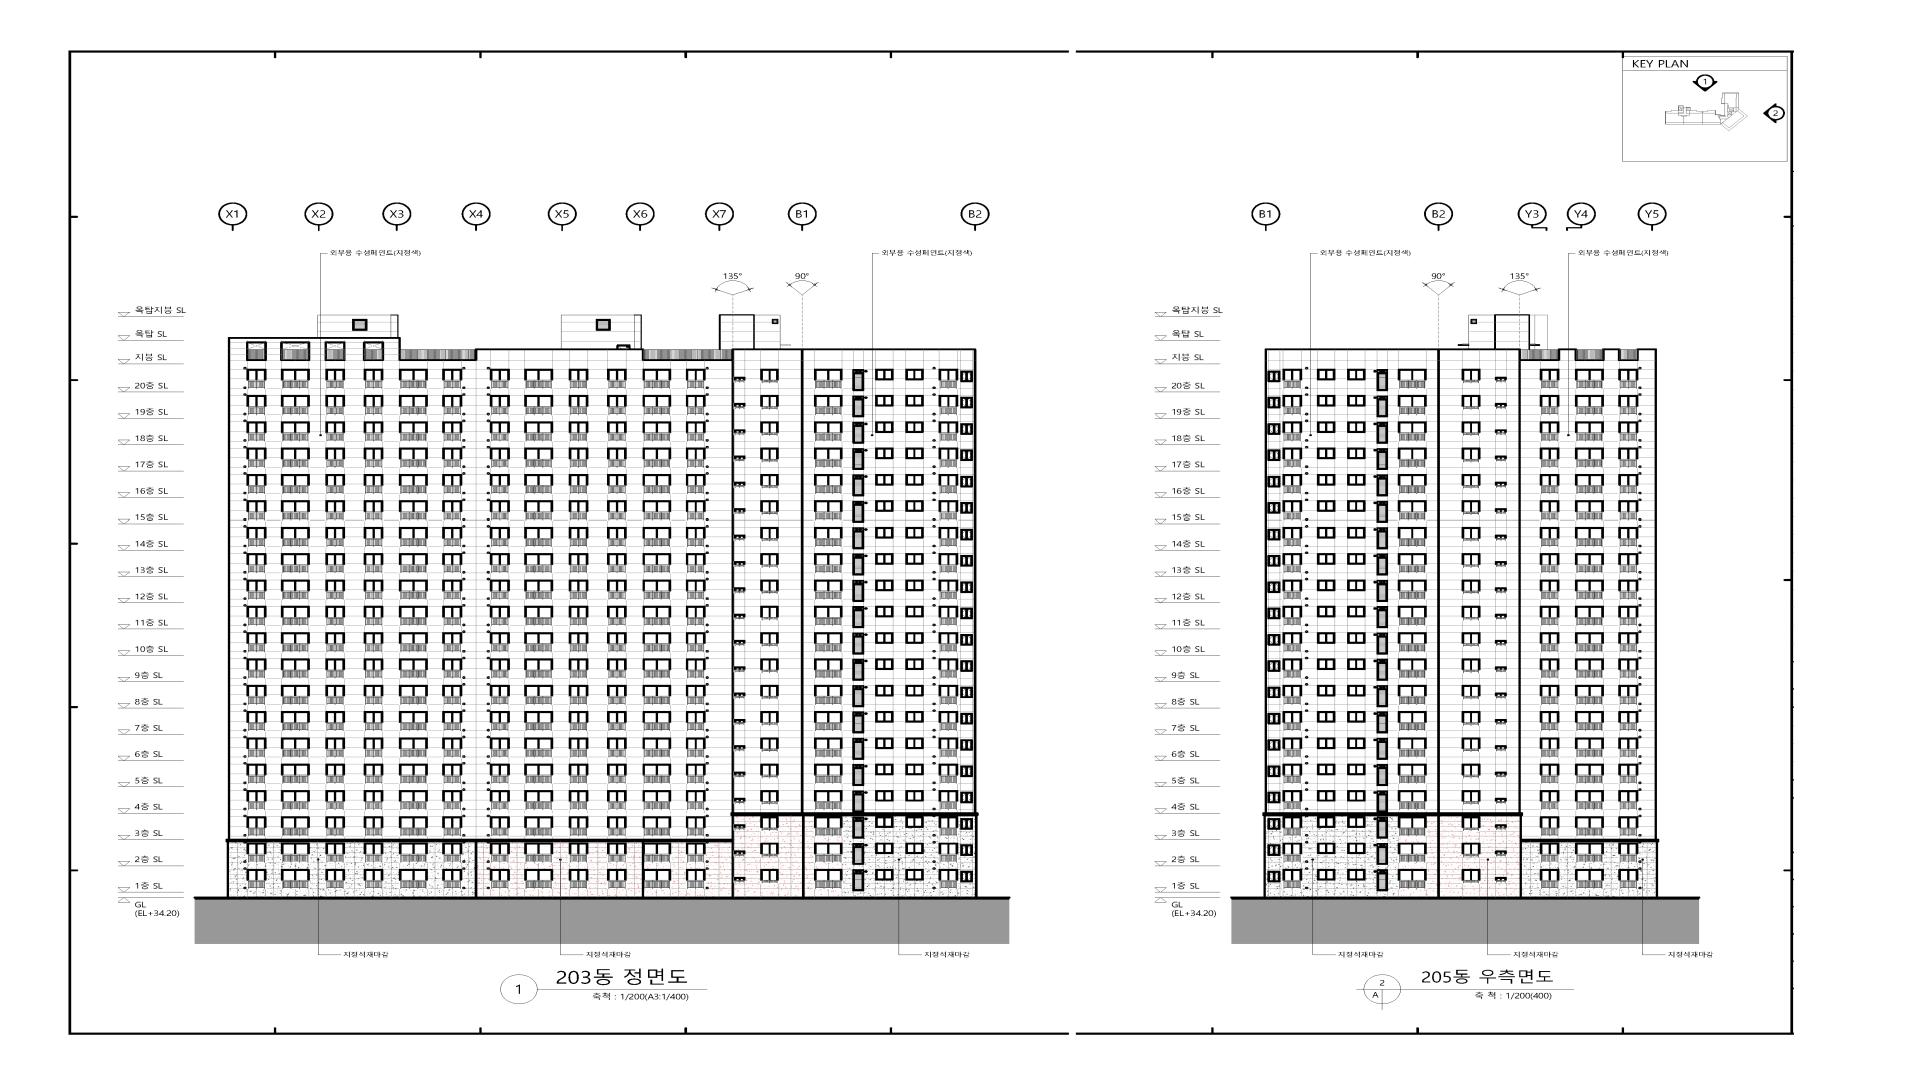wall: (195, 314, 1009, 900), (1231, 314, 1699, 900)
window: (280, 711, 310, 732), (280, 553, 310, 574), (642, 527, 672, 548), (642, 553, 672, 574), (642, 579, 672, 600), (642, 685, 671, 706), (642, 737, 671, 758), (642, 790, 671, 811), (642, 816, 671, 837), (814, 869, 843, 890), (814, 790, 843, 811), (814, 658, 843, 679), (814, 632, 843, 653), (814, 527, 843, 548), (814, 421, 843, 442), (281, 737, 310, 758), (281, 658, 310, 679), (281, 527, 310, 548), (281, 500, 310, 521), (281, 421, 310, 442), (399, 368, 428, 389), (399, 395, 428, 416), (399, 421, 428, 442), (399, 447, 428, 468), (399, 500, 428, 521), (399, 632, 428, 653), (399, 658, 428, 679), (399, 711, 428, 732), (399, 737, 428, 758), (399, 790, 428, 811), (399, 816, 428, 837), (281, 816, 310, 837), (281, 790, 310, 811), (399, 869, 428, 890), (524, 869, 553, 890), (524, 816, 553, 837), (524, 737, 553, 758), (524, 711, 553, 732), (524, 579, 553, 600), (524, 553, 553, 574), (524, 500, 553, 521), (524, 421, 553, 442), (524, 395, 553, 416), (642, 421, 671, 442), (642, 632, 671, 653), (642, 658, 671, 679), (1398, 527, 1427, 548), (1398, 737, 1427, 758), (1398, 763, 1427, 784), (1575, 421, 1604, 442), (1575, 447, 1604, 468), (1575, 658, 1604, 679), (1398, 579, 1427, 600), (1398, 632, 1427, 653), (1398, 658, 1427, 679), (1575, 553, 1604, 574), (813, 738, 843, 758), (398, 606, 428, 626), (642, 448, 672, 468), (642, 474, 672, 494), (642, 606, 672, 626), (1397, 422, 1427, 442), (1574, 395, 1604, 415), (1574, 474, 1604, 494), (643, 711, 672, 731), (642, 764, 671, 784), (642, 843, 671, 863), (642, 869, 671, 889), (814, 843, 843, 863), (814, 816, 843, 836), (814, 764, 843, 784), (814, 711, 843, 731), (814, 685, 843, 705), (814, 606, 843, 626), (814, 580, 843, 600), (814, 554, 843, 574), (814, 500, 843, 520), (814, 474, 843, 494), (814, 448, 843, 468), (814, 395, 843, 415), (814, 369, 843, 389), (281, 764, 310, 784), (281, 685, 310, 705), (281, 632, 310, 652), (281, 606, 310, 626), (281, 580, 310, 600), (281, 474, 310, 494), (281, 448, 310, 468), (281, 395, 310, 415), (281, 369, 310, 389), (399, 474, 428, 494), (399, 527, 428, 547), (399, 553, 428, 573), (399, 580, 428, 600), (399, 685, 428, 705), (399, 764, 428, 784), (281, 869, 310, 889), (281, 843, 310, 863), (399, 843, 428, 863), (524, 843, 553, 863), (524, 790, 553, 810), (524, 764, 553, 784), (524, 685, 553, 705), (524, 659, 553, 679), (524, 632, 553, 652), (524, 606, 553, 626), (524, 527, 553, 547), (524, 474, 553, 494), (524, 448, 553, 468), (524, 369, 553, 389), (642, 369, 671, 389), (642, 395, 671, 415), (642, 501, 671, 521), (1398, 395, 1427, 415), (1398, 474, 1427, 494), (1398, 500, 1427, 520), (1398, 553, 1427, 573), (1398, 711, 1427, 731), (1398, 790, 1427, 810), (1398, 816, 1427, 836), (1397, 843, 1426, 863), (1398, 869, 1427, 889), (1575, 500, 1604, 520), (1575, 606, 1604, 626), (1575, 632, 1604, 652), (1575, 685, 1604, 705), (1575, 711, 1604, 731), (1575, 738, 1604, 758), (1575, 764, 1604, 784), (1575, 790, 1604, 810), (1575, 816, 1604, 836), (1575, 843, 1604, 863), (1575, 869, 1604, 889), (1398, 369, 1427, 389), (1575, 369, 1604, 389), (1398, 448, 1427, 468), (1398, 606, 1427, 626), (1398, 685, 1427, 705), (1575, 527, 1604, 547), (1575, 580, 1604, 600), (280, 342, 310, 361), (607, 421, 627, 442), (607, 447, 627, 468), (607, 632, 627, 653), (607, 658, 627, 679), (325, 816, 345, 837), (364, 658, 384, 679), (246, 341, 267, 361), (363, 341, 384, 361), (246, 369, 267, 389), (490, 421, 510, 442), (938, 579, 958, 600), (938, 737, 958, 758), (686, 658, 706, 679), (686, 553, 706, 574), (325, 421, 345, 442), (246, 421, 266, 442), (246, 816, 267, 836), (246, 869, 267, 889), (1282, 421, 1302, 442), (1282, 447, 1302, 468), (1282, 632, 1302, 653), (1618, 737, 1638, 758), (1618, 764, 1639, 784), (1618, 869, 1639, 889), (1618, 790, 1639, 810), (1618, 816, 1639, 836), (1539, 816, 1560, 836), (686, 395, 706, 415), (607, 395, 627, 415), (607, 474, 627, 494), (607, 500, 627, 520), (607, 527, 627, 547), (607, 553, 627, 573), (607, 580, 627, 600), (607, 606, 627, 626), (607, 685, 627, 705), (607, 711, 627, 731), (607, 738, 627, 758), (607, 764, 627, 784), (607, 790, 627, 810), (607, 816, 627, 836), (569, 869, 589, 889), (569, 816, 589, 836), (569, 790, 589, 810), (568, 764, 588, 784), (569, 711, 589, 731), (569, 685, 589, 705), (569, 632, 589, 652), (569, 606, 589, 626), (569, 527, 589, 547), (569, 474, 589, 494), (490, 843, 510, 863), (490, 869, 510, 889), (442, 869, 462, 889), (442, 843, 462, 863), (442, 816, 462, 836), (325, 869, 345, 889), (325, 843, 345, 863), (442, 790, 462, 810), (325, 790, 345, 810), (364, 790, 384, 810), (363, 764, 383, 784), (325, 764, 345, 784), (325, 738, 345, 758), (325, 711, 345, 731), (325, 685, 345, 705), (325, 658, 345, 678), (325, 632, 345, 652), (325, 606, 345, 626), (364, 606, 384, 626), (364, 580, 384, 600), (325, 580, 345, 600), (325, 553, 345, 573), (325, 527, 345, 547), (325, 341, 345, 361), (325, 369, 345, 389), (364, 369, 384, 389), (442, 369, 462, 389), (490, 369, 510, 389), (569, 369, 589, 389), (607, 369, 627, 389), (686, 369, 706, 389), (938, 369, 958, 389), (938, 395, 958, 415), (938, 421, 958, 441), (938, 474, 958, 494), (938, 500, 958, 520), (569, 448, 589, 468), (569, 421, 589, 441), (569, 395, 589, 415), (490, 395, 510, 415), (442, 395, 462, 415), (442, 421, 462, 441), (490, 448, 510, 468), (490, 474, 510, 494), (490, 500, 510, 520), (442, 474, 462, 494), (442, 447, 462, 467), (442, 500, 462, 520), (442, 527, 462, 547), (490, 527, 510, 547), (442, 553, 462, 573), (490, 553, 510, 573), (442, 580, 462, 600), (490, 580, 510, 600), (442, 606, 462, 626), (490, 606, 510, 626), (490, 632, 510, 652), (490, 659, 510, 679), (442, 685, 462, 705), (490, 685, 510, 705), (490, 711, 510, 731), (490, 763, 510, 783), (490, 790, 510, 810), (490, 816, 510, 836), (938, 527, 958, 547), (938, 606, 958, 626), (938, 632, 958, 652), (938, 658, 958, 678), (938, 685, 958, 705), (938, 711, 958, 731), (938, 764, 958, 784), (938, 790, 958, 810), (938, 816, 958, 836), (938, 843, 958, 863), (938, 869, 958, 889), (686, 816, 706, 836), (607, 869, 627, 889), (607, 843, 627, 863), (686, 790, 706, 810), (686, 764, 706, 784), (686, 737, 706, 757), (686, 711, 706, 731), (686, 685, 706, 705), (686, 632, 706, 652), (686, 606, 706, 626), (686, 580, 706, 600), (686, 500, 706, 520), (686, 474, 706, 494), (686, 422, 706, 442), (325, 500, 345, 520), (364, 500, 384, 520), (363, 474, 383, 494), (325, 474, 345, 494), (325, 448, 345, 468), (363, 448, 383, 468), (364, 422, 384, 442), (325, 395, 345, 415), (364, 395, 384, 415), (247, 448, 267, 468), (246, 474, 266, 494), (247, 500, 267, 520), (246, 606, 266, 626), (247, 658, 267, 678), (246, 685, 266, 705), (247, 764, 267, 784), (246, 790, 266, 810), (246, 843, 266, 863), (1282, 527, 1302, 547), (1282, 580, 1302, 600), (1282, 606, 1302, 626), (1282, 685, 1302, 705), (1282, 711, 1302, 731), (1282, 816, 1302, 836), (1282, 843, 1302, 863), (1618, 395, 1638, 415), (1539, 448, 1559, 468), (1540, 474, 1560, 494), (1618, 474, 1638, 494), (1540, 659, 1560, 679), (1618, 685, 1638, 705), (1540, 737, 1560, 757), (1618, 711, 1638, 731), (1282, 369, 1302, 389), (1618, 369, 1638, 389), (1282, 474, 1302, 494), (1282, 553, 1302, 573), (1282, 790, 1302, 810), (1618, 448, 1638, 468), (1618, 501, 1638, 521), (1618, 527, 1638, 547), (1618, 553, 1638, 573), (1618, 580, 1638, 600), (1618, 632, 1638, 652), (1618, 658, 1638, 678), (1540, 843, 1560, 863), (1540, 869, 1560, 889), (1618, 843, 1638, 863), (569, 579, 588, 600), (569, 553, 588, 574), (443, 737, 462, 758), (490, 737, 509, 758), (247, 737, 266, 758), (1283, 500, 1302, 521), (1283, 658, 1302, 679), (1540, 421, 1559, 442), (1540, 579, 1559, 600), (1540, 605, 1559, 626), (1619, 421, 1638, 442), (569, 843, 588, 863), (569, 737, 588, 757), (569, 659, 588, 679), (569, 500, 588, 520), (364, 869, 383, 889), (364, 843, 383, 863), (364, 816, 383, 836), (443, 764, 462, 784), (364, 737, 383, 757), (364, 711, 383, 731), (364, 685, 383, 705), (364, 632, 383, 652), (364, 553, 383, 573), (939, 448, 958, 468), (443, 632, 462, 652), (443, 658, 462, 678), (443, 711, 462, 731), (939, 553, 958, 573), (686, 869, 705, 889), (686, 843, 705, 863), (686, 527, 705, 547), (686, 447, 705, 467), (364, 527, 383, 547), (247, 395, 266, 415), (247, 527, 266, 547), (247, 553, 266, 573), (247, 580, 266, 600), (247, 632, 266, 652), (247, 711, 266, 731), (1283, 395, 1302, 415), (1283, 738, 1302, 758), (1283, 764, 1302, 784), (1283, 869, 1302, 889), (1540, 395, 1559, 415), (1540, 500, 1559, 520), (1540, 553, 1559, 573), (1619, 606, 1638, 626), (1540, 632, 1559, 652), (1540, 711, 1559, 731), (1540, 764, 1559, 784), (1540, 369, 1559, 389), (1540, 527, 1559, 547), (1540, 685, 1559, 705), (1540, 790, 1559, 810), (1461, 500, 1481, 515), (1461, 553, 1481, 568), (760, 395, 779, 410), (760, 421, 779, 436), (760, 474, 779, 489), (760, 500, 779, 515), (760, 527, 779, 542), (760, 553, 779, 568), (760, 632, 779, 647), (760, 658, 779, 673), (760, 685, 779, 700), (760, 711, 779, 726), (760, 737, 779, 752), (760, 790, 779, 805), (760, 869, 779, 884), (1462, 421, 1481, 436), (1461, 447, 1480, 462), (1462, 474, 1481, 489), (1462, 632, 1481, 647), (1462, 658, 1481, 673), (1462, 395, 1481, 410), (1462, 605, 1481, 620), (1462, 685, 1481, 700), (1461, 815, 1480, 830), (1462, 869, 1481, 884), (1461, 711, 1481, 725), (1461, 369, 1481, 383), (760, 369, 779, 383), (760, 448, 779, 462), (760, 580, 779, 594), (760, 606, 779, 620), (760, 817, 779, 831), (760, 843, 779, 857), (1461, 527, 1480, 541), (1462, 580, 1481, 594), (1461, 738, 1480, 752), (1461, 764, 1480, 778), (1461, 790, 1480, 804), (1461, 843, 1480, 857), (852, 369, 864, 391), (852, 422, 864, 444), (852, 448, 864, 470), (852, 475, 864, 497), (852, 501, 864, 523), (852, 554, 864, 576), (852, 580, 864, 602), (852, 606, 864, 628), (852, 633, 864, 655), (852, 659, 864, 681), (852, 685, 864, 707), (852, 711, 864, 733), (852, 738, 864, 760), (852, 764, 864, 786), (852, 791, 864, 813), (852, 817, 864, 839), (852, 843, 864, 865), (852, 869, 864, 891), (1376, 843, 1388, 865), (1376, 369, 1388, 391), (1377, 396, 1389, 418), (1376, 422, 1388, 444), (1376, 448, 1388, 470), (1376, 475, 1388, 497), (1376, 501, 1388, 523), (1376, 554, 1388, 576), (1376, 580, 1388, 602), (1376, 606, 1388, 628), (1376, 633, 1388, 655), (1376, 659, 1388, 681), (1376, 711, 1388, 733), (760, 764, 778, 778), (853, 396, 864, 418), (853, 528, 864, 550), (1377, 764, 1388, 786), (1377, 791, 1388, 813), (1377, 817, 1388, 839), (1377, 869, 1388, 891), (1377, 527, 1388, 549), (1377, 685, 1388, 707), (1377, 738, 1388, 760), (905, 369, 924, 381), (905, 395, 924, 407), (875, 421, 894, 433), (875, 474, 894, 486), (905, 474, 924, 486), (875, 500, 894, 512), (905, 500, 924, 512), (875, 527, 894, 539), (905, 527, 924, 539), (905, 632, 924, 644), (875, 658, 894, 670), (905, 658, 924, 670), (875, 711, 894, 723), (905, 711, 924, 723), (905, 737, 924, 749), (905, 790, 924, 802), (875, 816, 894, 828), (905, 816, 924, 828), (875, 869, 894, 881), (1317, 395, 1336, 407), (1347, 421, 1366, 433), (1317, 474, 1336, 486), (1317, 500, 1336, 512), (1317, 527, 1336, 539), (1347, 527, 1366, 539), (1317, 553, 1336, 565), (1317, 580, 1336, 592), (1317, 606, 1336, 618), (1347, 737, 1366, 749), (1317, 737, 1336, 749), (1317, 816, 1336, 828), (1347, 816, 1366, 828), (1347, 395, 1366, 407), (1347, 474, 1366, 486), (1347, 500, 1366, 512), (1317, 632, 1336, 644), (1347, 632, 1366, 644), (1347, 658, 1366, 670), (1347, 685, 1366, 697), (1347, 711, 1366, 723), (1347, 764, 1366, 776), (1347, 790, 1366, 802), (875, 395, 893, 407), (906, 421, 924, 433), (875, 553, 893, 565), (906, 553, 924, 565), (875, 632, 893, 644), (875, 737, 893, 749), (875, 790, 893, 802), (1347, 553, 1365, 565), (1317, 369, 1335, 381), (1317, 658, 1335, 670), (1317, 711, 1335, 723), (1317, 764, 1335, 776), (1317, 790, 1335, 802), (875, 369, 894, 380), (905, 448, 924, 459), (875, 580, 894, 591), (905, 580, 924, 591), (875, 606, 894, 617), (905, 606, 924, 617), (905, 685, 924, 696), (875, 764, 894, 775), (905, 843, 924, 854), (905, 869, 924, 880), (1317, 422, 1336, 433), (1347, 448, 1366, 459), (1347, 580, 1366, 591), (1347, 606, 1366, 617), (1347, 369, 1366, 380), (1317, 448, 1336, 459), (1317, 843, 1336, 854), (1347, 843, 1366, 854), (1347, 869, 1366, 880), (875, 448, 893, 459), (875, 685, 893, 696), (905, 764, 923, 775), (875, 843, 893, 854), (1317, 685, 1335, 696), (1317, 869, 1335, 880), (352, 319, 368, 331), (596, 319, 611, 331), (960, 423, 973, 435), (960, 449, 973, 461), (960, 476, 973, 488), (960, 502, 973, 514), (960, 555, 973, 567), (960, 581, 973, 593), (960, 634, 973, 646), (960, 660, 973, 672), (960, 713, 973, 725), (960, 739, 973, 751), (960, 765, 973, 777), (960, 792, 973, 804), (960, 818, 973, 830), (960, 844, 973, 856), (960, 871, 973, 883), (1267, 765, 1280, 777), (1267, 791, 1280, 803), (1267, 818, 1280, 830), (1267, 844, 1280, 856), (1267, 871, 1280, 883), (1267, 397, 1280, 409), (1267, 423, 1280, 435), (1267, 449, 1280, 461), (1267, 502, 1280, 514), (1268, 581, 1281, 593), (1268, 607, 1281, 619), (1267, 634, 1280, 646), (1267, 660, 1280, 672), (1267, 713, 1280, 725), (1267, 739, 1280, 751), (960, 397, 973, 408), (960, 529, 973, 540), (960, 608, 973, 619), (960, 687, 973, 698), (960, 371, 973, 382), (1267, 371, 1280, 382), (1268, 476, 1281, 487), (1267, 529, 1280, 540), (1267, 555, 1280, 566), (1267, 687, 1280, 698), (1494, 403, 1507, 409), (734, 429, 745, 436), (734, 666, 745, 673), (734, 824, 745, 831), (734, 850, 745, 857), (734, 377, 746, 383), (734, 403, 746, 409), (734, 482, 746, 488), (734, 508, 746, 514), (734, 561, 746, 567), (734, 772, 746, 778), (734, 798, 746, 804), (1495, 429, 1507, 435), (1495, 456, 1507, 462), (1495, 482, 1507, 488), (1495, 508, 1507, 514), (1495, 534, 1507, 540), (1495, 561, 1507, 567), (1495, 587, 1507, 593), (1495, 640, 1507, 646), (1495, 666, 1507, 672), (1495, 377, 1507, 383), (1495, 614, 1507, 620), (1495, 692, 1507, 698), (1495, 719, 1507, 725), (1495, 745, 1507, 751), (1495, 798, 1507, 804), (1495, 824, 1507, 830), (1495, 850, 1507, 856), (1495, 877, 1507, 883), (734, 456, 745, 462), (734, 535, 745, 541), (734, 587, 745, 593), (734, 614, 745, 620), (734, 640, 745, 646), (734, 693, 745, 699), (734, 719, 745, 725), (734, 745, 745, 751), (734, 877, 745, 883), (1495, 772, 1507, 777), (1470, 319, 1477, 324), (772, 319, 778, 324)
